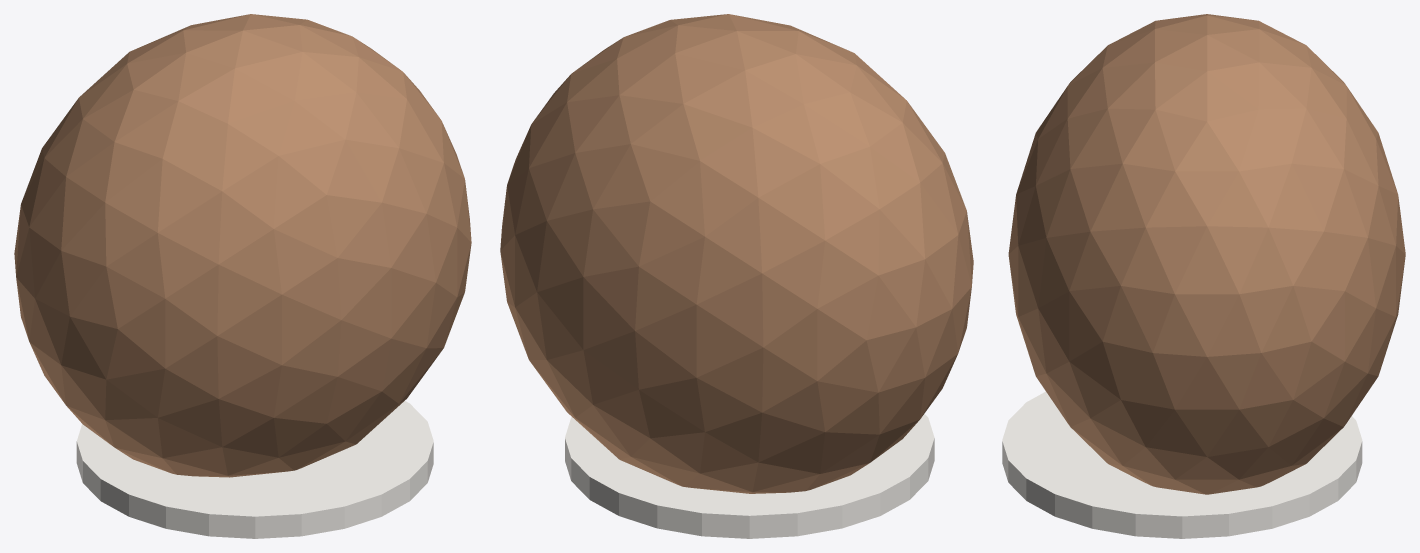
Rendered from coconut-4179b.glb.
3 views of the same model, side by side, from view 1: azimuth 30°, elevation 25°; view 2: azimuth 150°, elevation 25°; view 3: azimuth 270°, elevation 25° (orthographic). The views are drawn at different scales.
Parts seen in each view (by area): view 1: shell, flesh; view 2: shell, flesh; view 3: shell, flesh.
Part boxes in pixels (x1,y1,x2,y2): shell: (14, 14, 471, 477); flesh: (76, 401, 433, 538); shell: (500, 14, 973, 493); flesh: (565, 414, 934, 538); shell: (1008, 14, 1405, 494); flesh: (1002, 391, 1362, 538).
Bounding box in the file's own units: 2.64 × 2.7 × 2.2.
